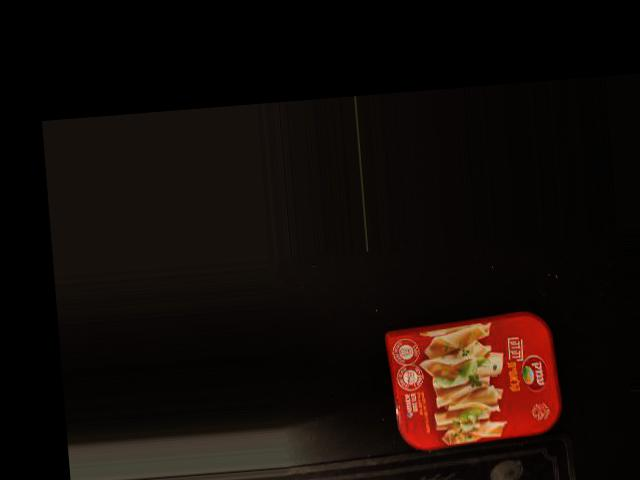cheese: (389, 315, 558, 445)
